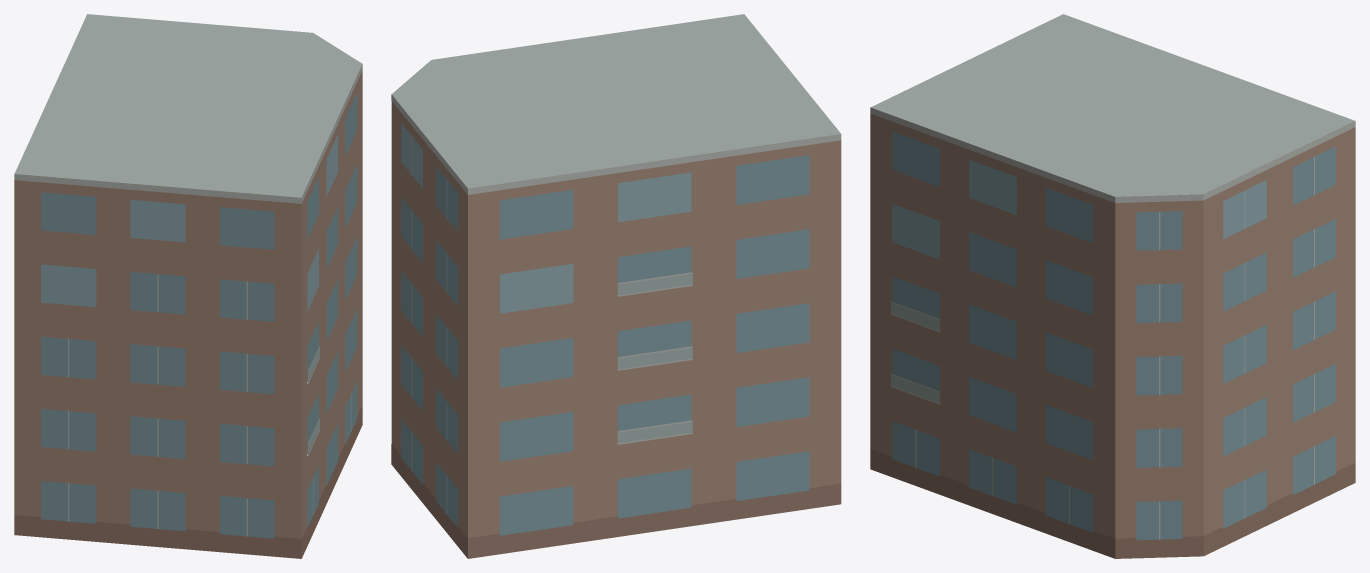
Rendered from survey-upis-32712326.glb.
3 renders of one model, left to right at view 1: azimuth 30°, elevation 25°; view 2: azimuth 150°, elevation 25°; view 3: azimuth 270°, elevation 25°, orthographic. The views are drawn at different scales.
Parts seen in each view (by area): view 1: survey-upis-32712326.tmp; view 2: survey-upis-32712326.tmp; view 3: survey-upis-32712326.tmp.
Boxes of the visible parts, x1=… form: survey-upis-32712326.tmp: x1=14, y1=14, x2=362, y2=558; survey-upis-32712326.tmp: x1=391, y1=14, x2=841, y2=558; survey-upis-32712326.tmp: x1=870, y1=14, x2=1355, y2=558.
Bounding box in the file's own units: 15.62 × 14.4 × 17.5.
